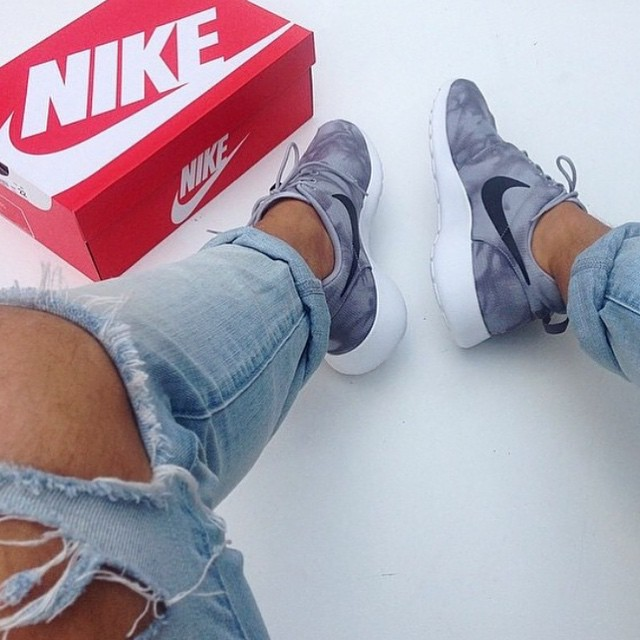sneaker: (227, 112, 431, 391), (409, 67, 596, 363)
